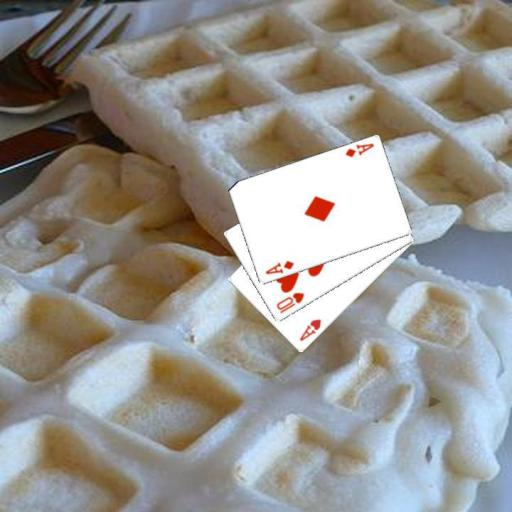10H: (273, 289, 306, 315)
AD: (342, 140, 376, 159), (263, 258, 295, 276)
AH: (296, 316, 323, 343)
